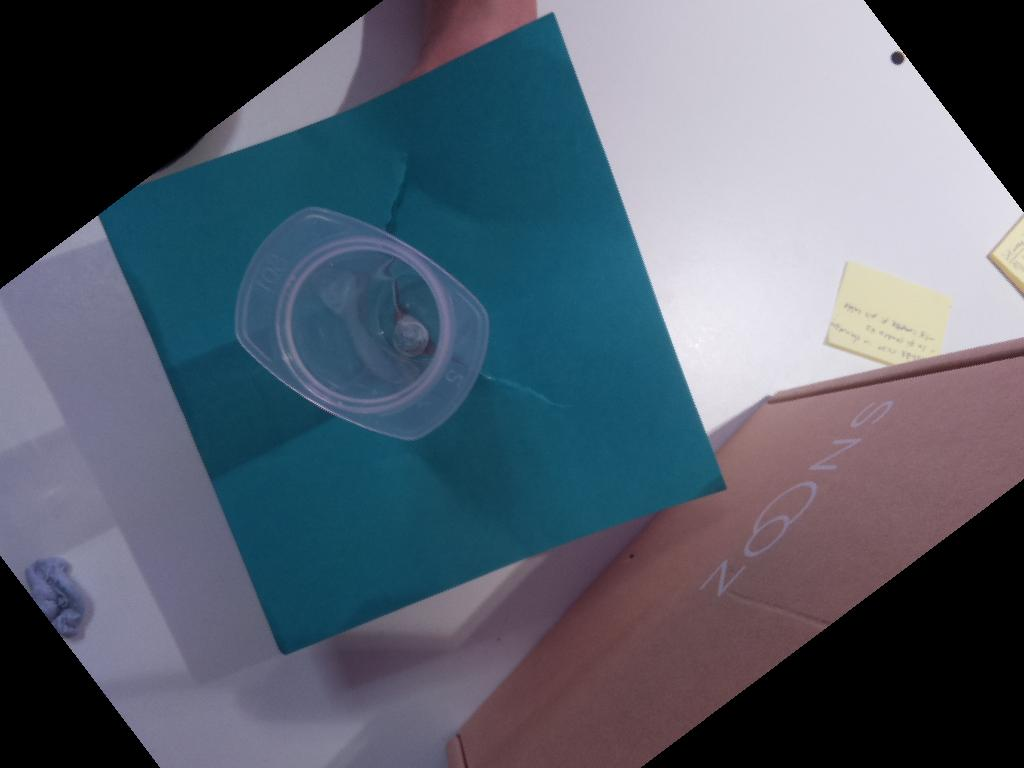clean: (235, 204, 489, 444)
